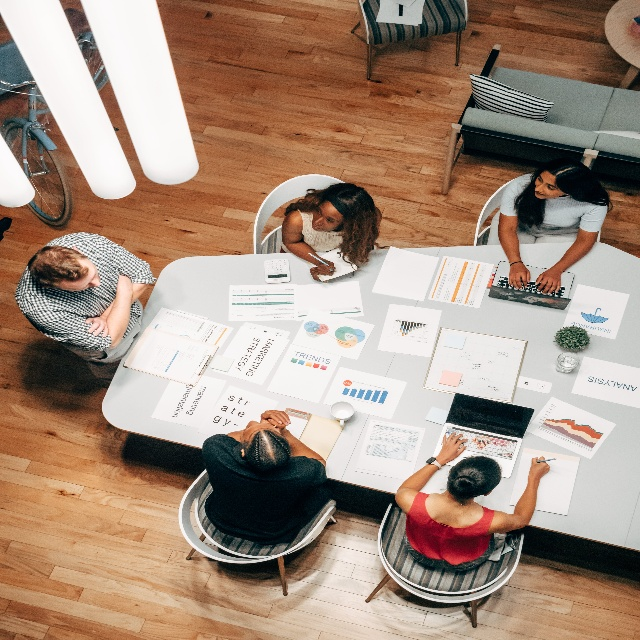Sin_guantes: (440, 432, 467, 464), (535, 264, 561, 295), (508, 262, 531, 290), (260, 410, 292, 429), (86, 314, 108, 338), (531, 456, 550, 479), (317, 259, 336, 275), (309, 266, 320, 282)
